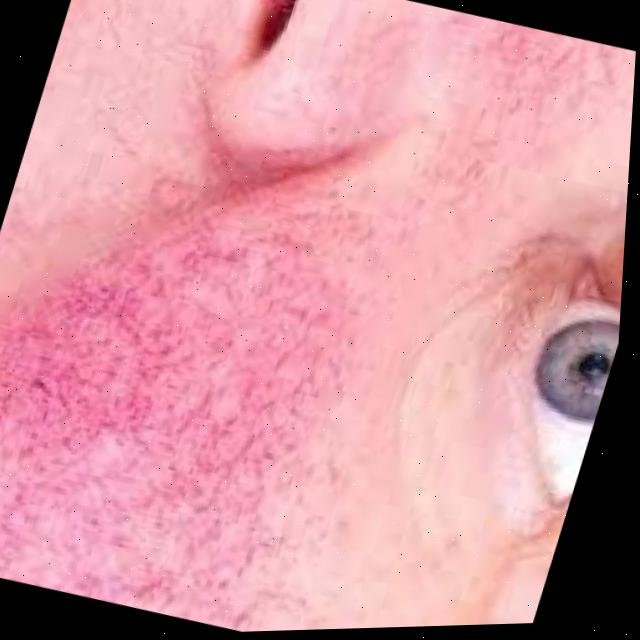Rosacea: (0, 147, 382, 638), (429, 3, 633, 103)
